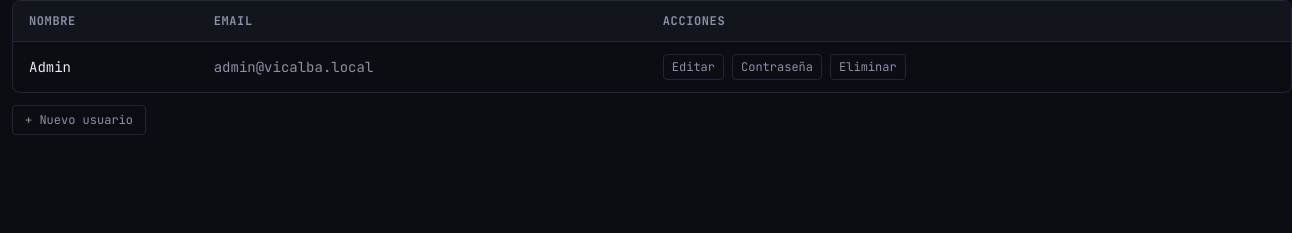
GestionUsuarios — editar usuario › muestra formulario de edición con datos pre-rellenados
Click the button with aria-label "editar admin" at [693, 67], box [663, 54, 724, 80]
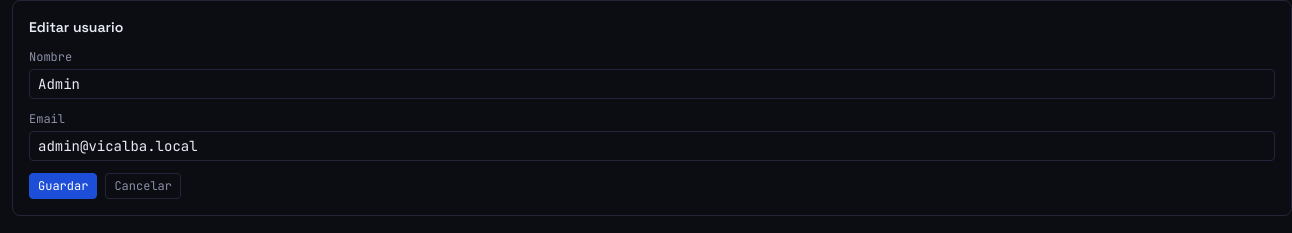
Expected: the field showing "Admin" is shown, [29, 69, 1275, 99]
Expected: the field showing "admin@vicalba.local" is shown, [29, 131, 1275, 161]
